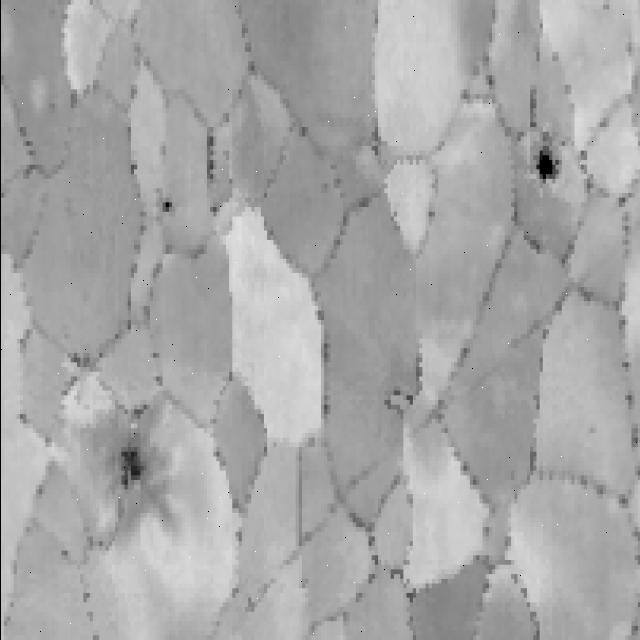good_void: (528, 90, 567, 212), (191, 126, 221, 211), (114, 428, 146, 498), (157, 192, 173, 224)
